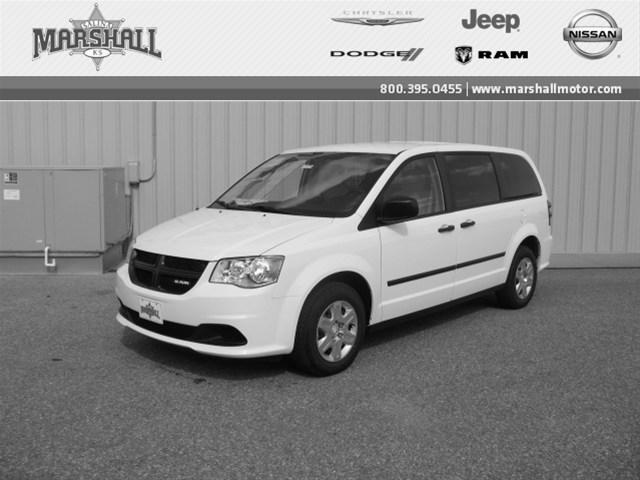car: (119, 141, 554, 378)
